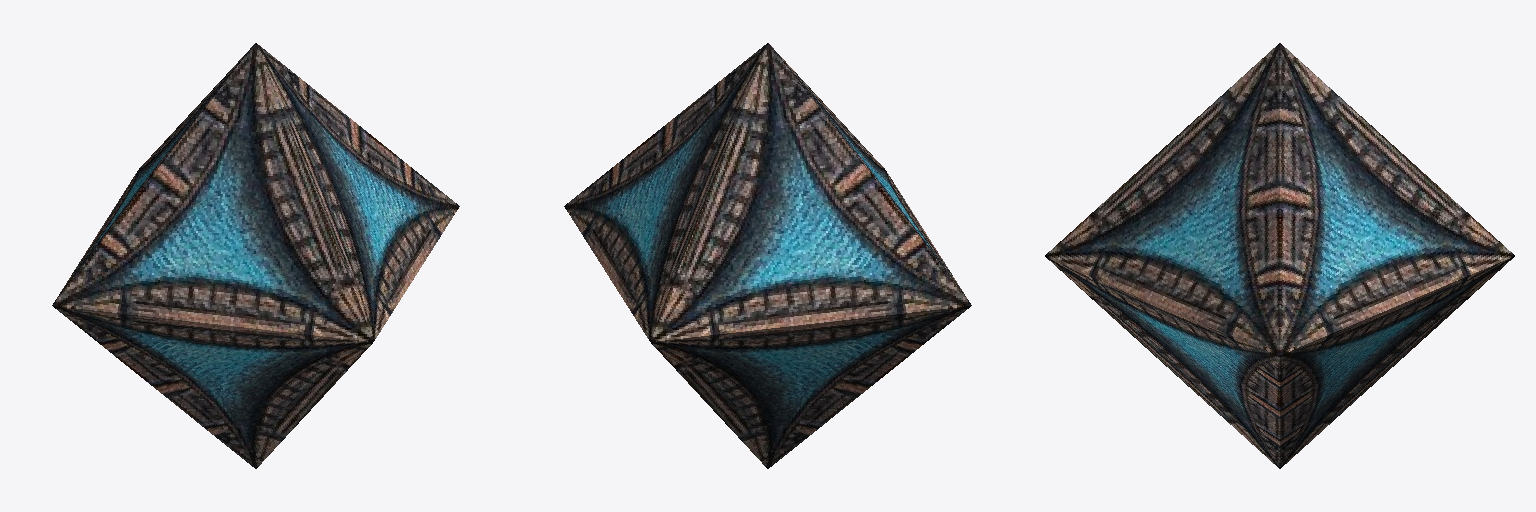
3 views of the same model, side by side, from view 1: azimuth 30°, elevation 25°; view 2: azimuth 150°, elevation 25°; view 3: azimuth 270°, elevation 25° (orthographic).
Size of the model in its own units: 1.41 by 1.41 by 1.41.
Materials: 1 (1 with a texture image).